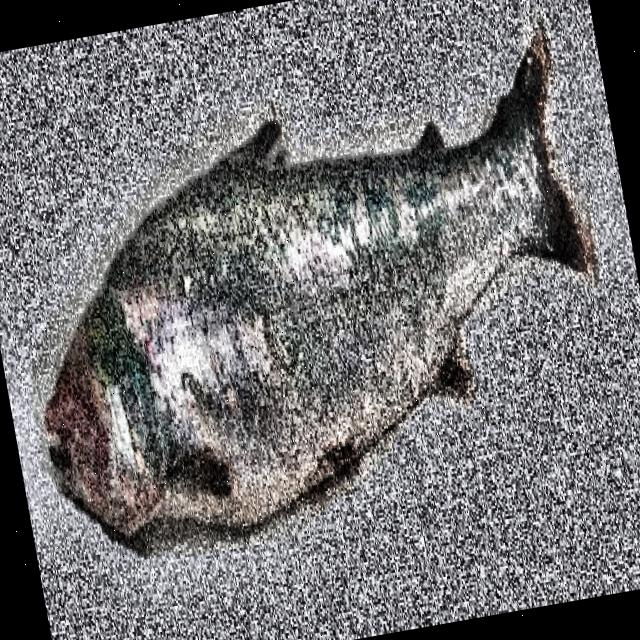mild_red: (41, 26, 597, 545)
